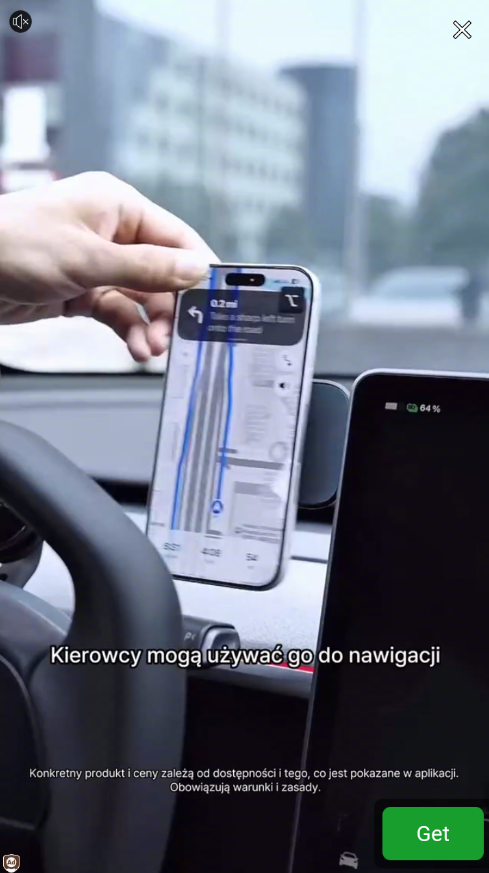close_button: (449, 15, 476, 45)
